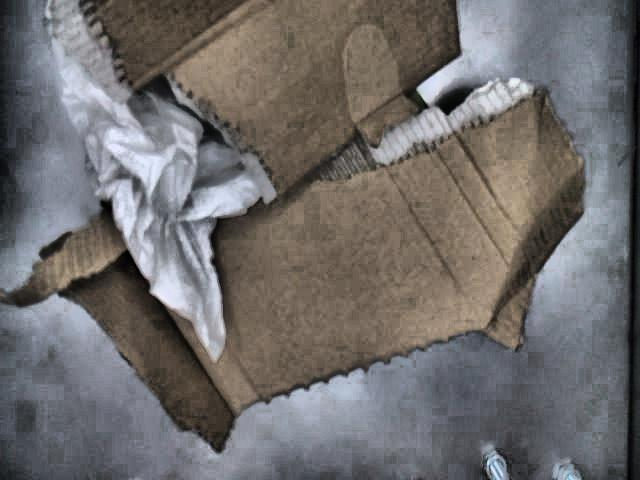Paper: (4, 0, 588, 458)
